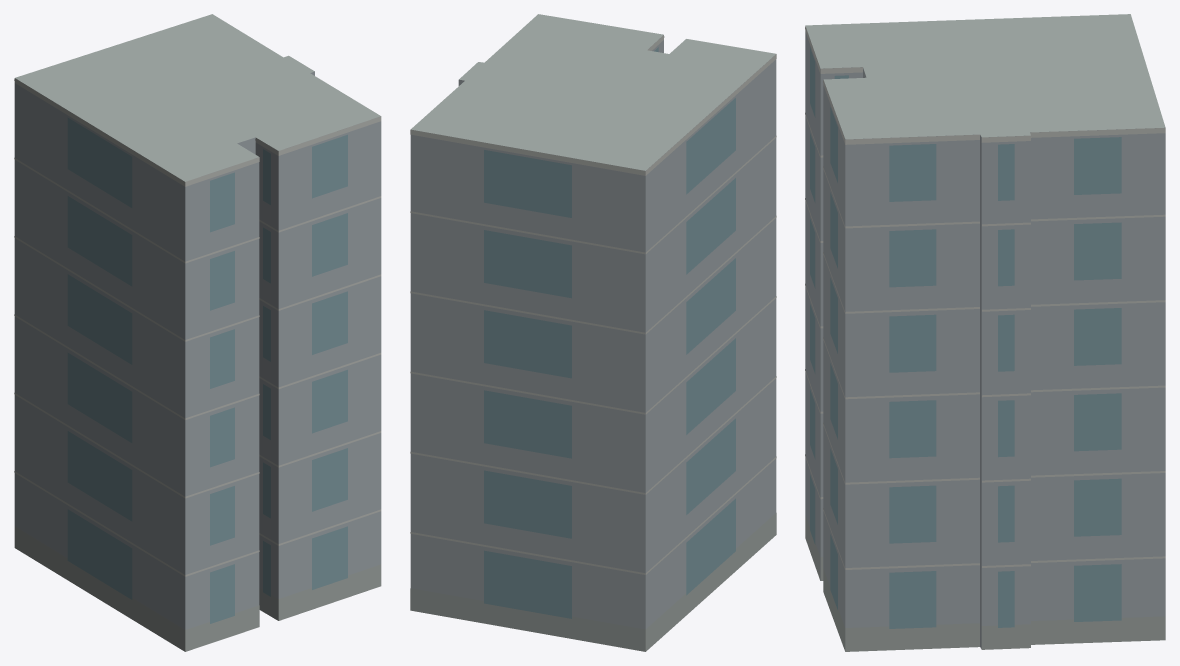
File: survey-upis-32983615.glb
The picture shows the model from 3 angles, left to right: view 1: azimuth 30°, elevation 25°; view 2: azimuth 150°, elevation 25°; view 3: azimuth 270°, elevation 25°; orthographic projection. The views are drawn at different scales.
Parts seen in each view (by area): view 1: survey-upis-32983615.tmp; view 2: survey-upis-32983615.tmp; view 3: survey-upis-32983615.tmp.
Boxes of the visible parts, x1,y1,x2,y2 form: survey-upis-32983615.tmp: (14, 14, 381, 651); survey-upis-32983615.tmp: (410, 14, 776, 651); survey-upis-32983615.tmp: (805, 14, 1165, 651).
Size of the model in its own units: 12.1 by 23 by 14.68.
